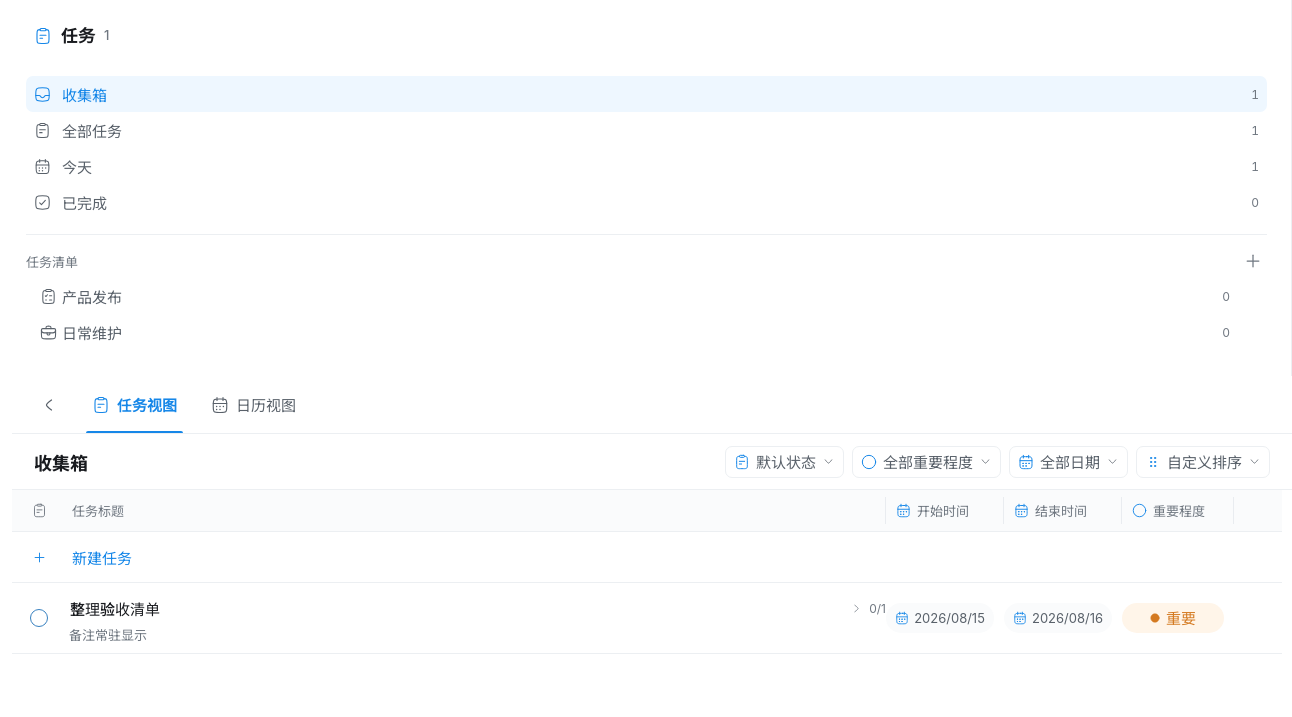
TaskWorkspace › switches to the green-token calendar tab
Check: the field showing "整理验收清单" is shown, box 62,591 -> 844,625
Click the button "日历视图" at (254,404), box 205,376 -> 302,433
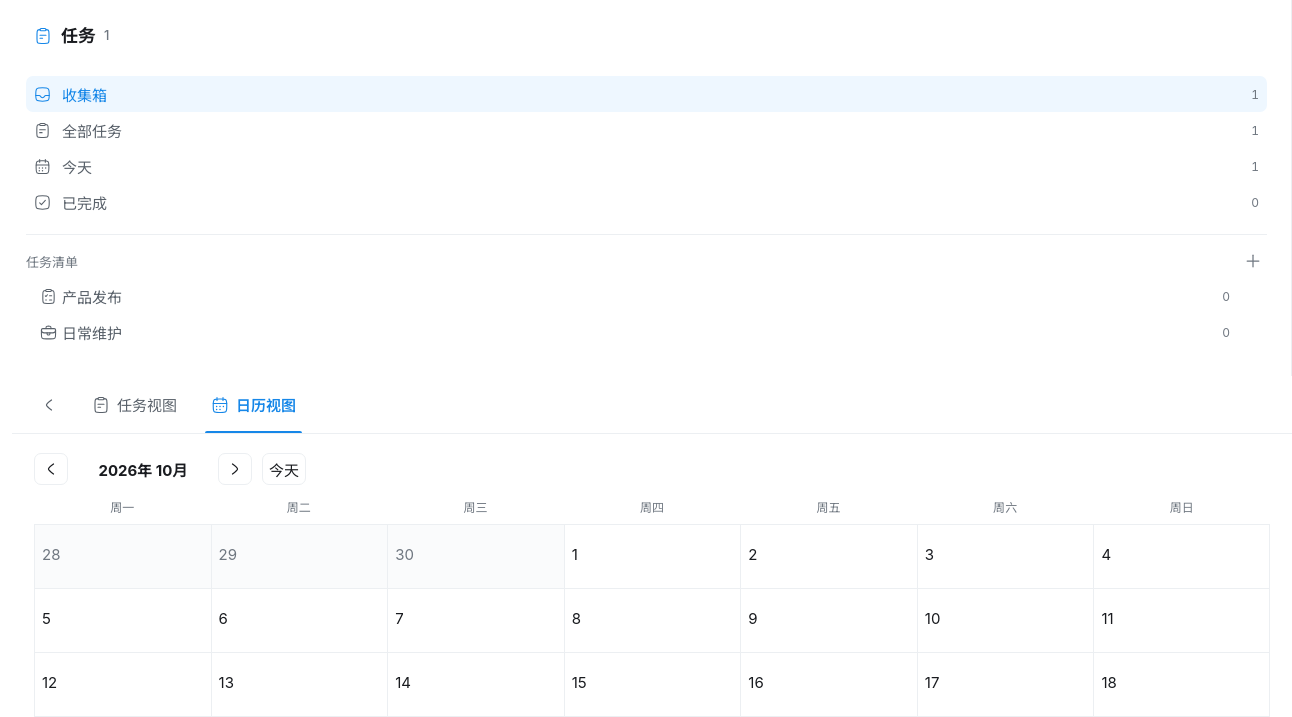
Check: the text "2026年 10月" is shown, box 98,460 -> 187,480
